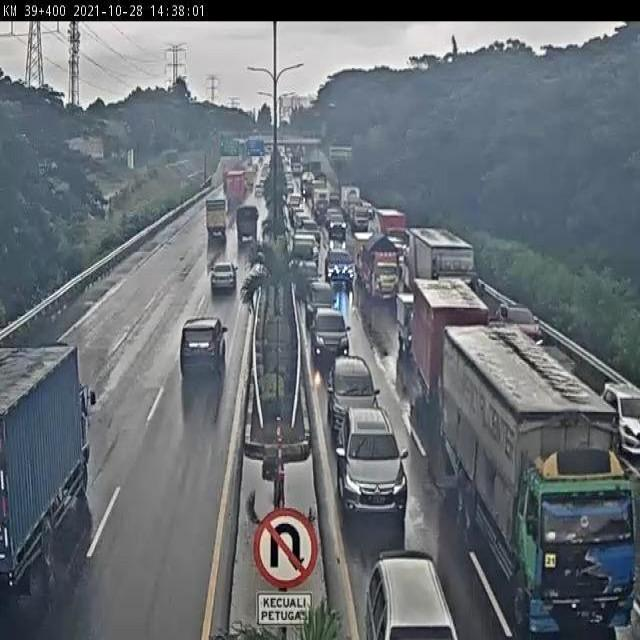big truck: (438, 328, 637, 639), (0, 326, 108, 602), (404, 221, 483, 303)
car: (333, 408, 417, 525), (362, 546, 456, 640), (325, 352, 386, 431), (173, 308, 232, 388), (599, 368, 640, 473), (494, 291, 553, 352), (304, 304, 357, 360), (323, 241, 361, 299), (209, 255, 243, 297)
small truck: (406, 279, 493, 409), (351, 232, 404, 312), (201, 200, 232, 247), (232, 207, 262, 249)
